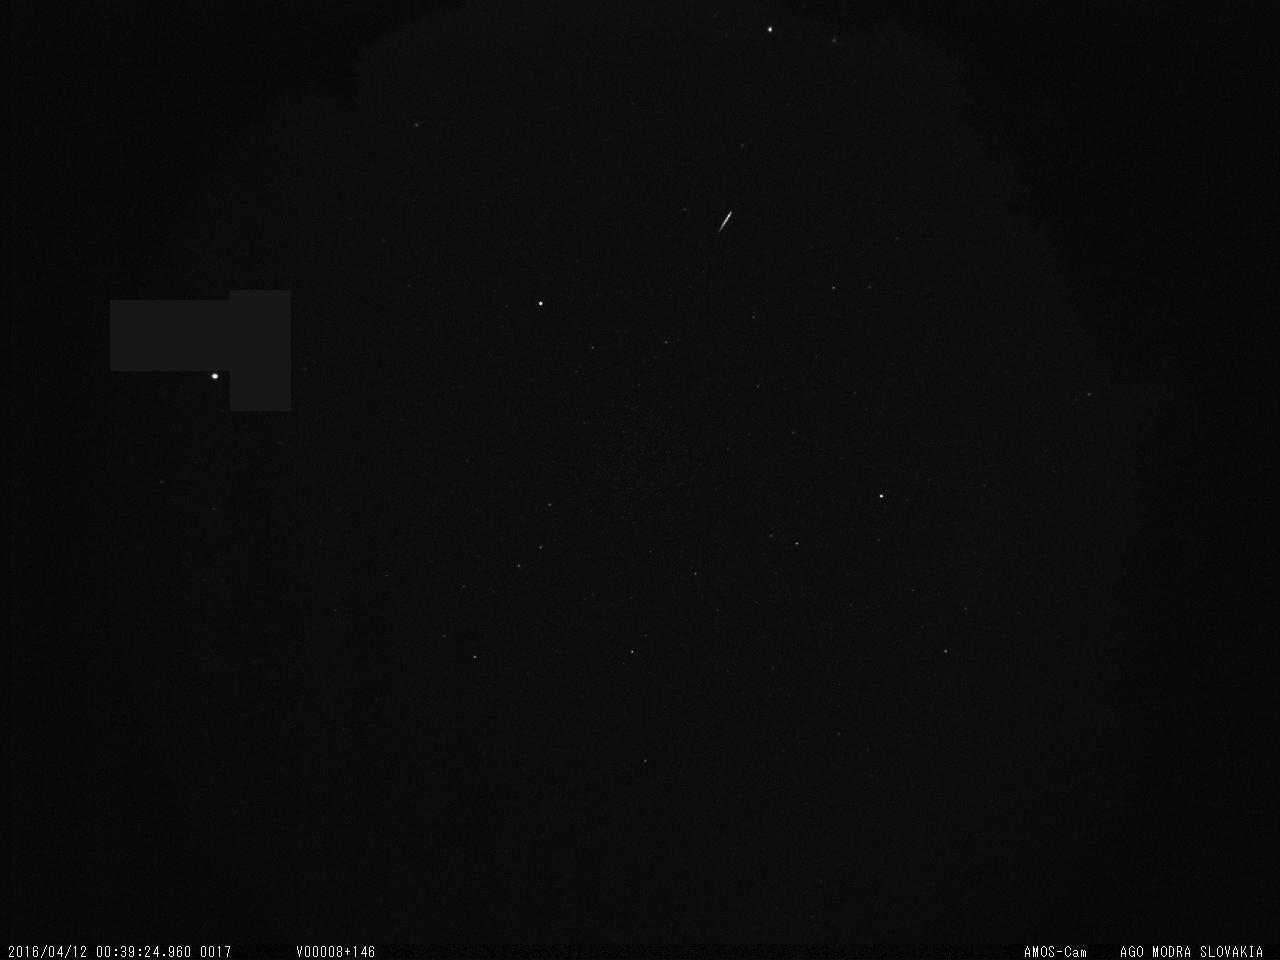Meteor: (715, 209, 733, 234)
